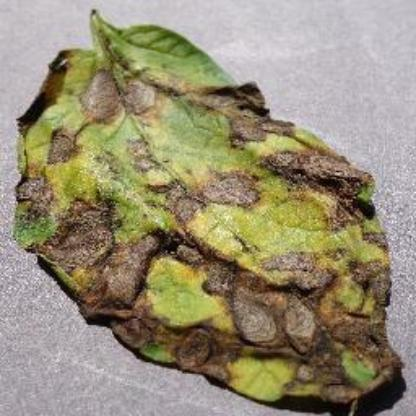Early-Blight: (11, 11, 405, 406)
